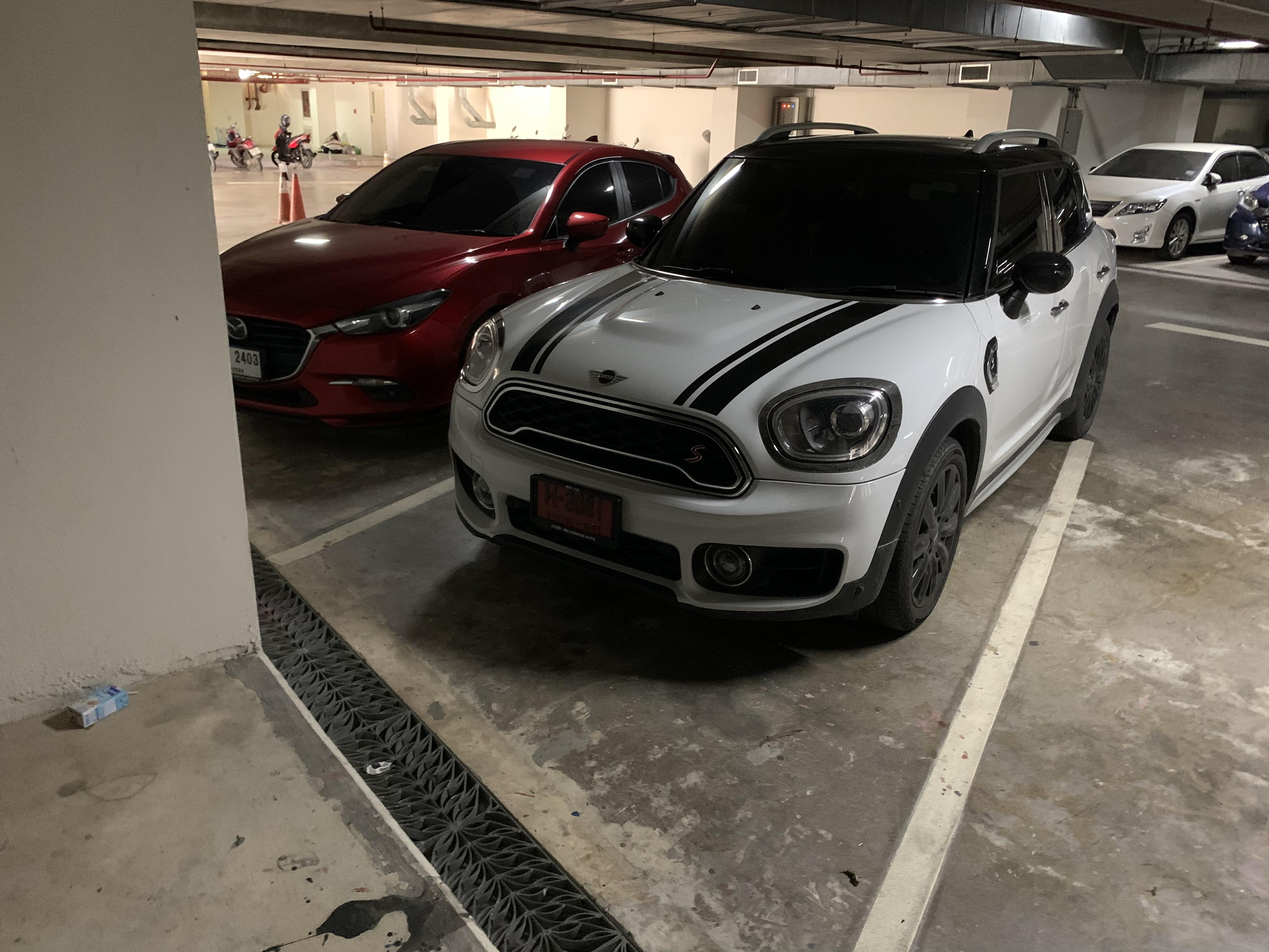license-plate: (526, 471, 630, 555)
